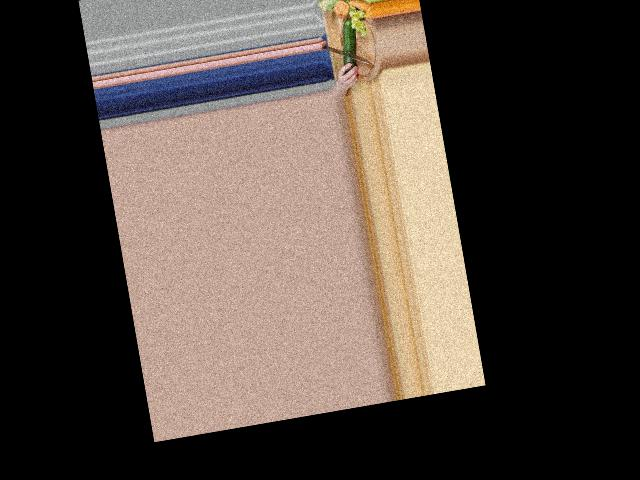cucumber: (336, 17, 361, 73)
